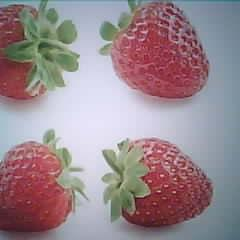straw-ripe: (112, 3, 210, 99), (112, 135, 213, 225), (0, 142, 71, 234)
